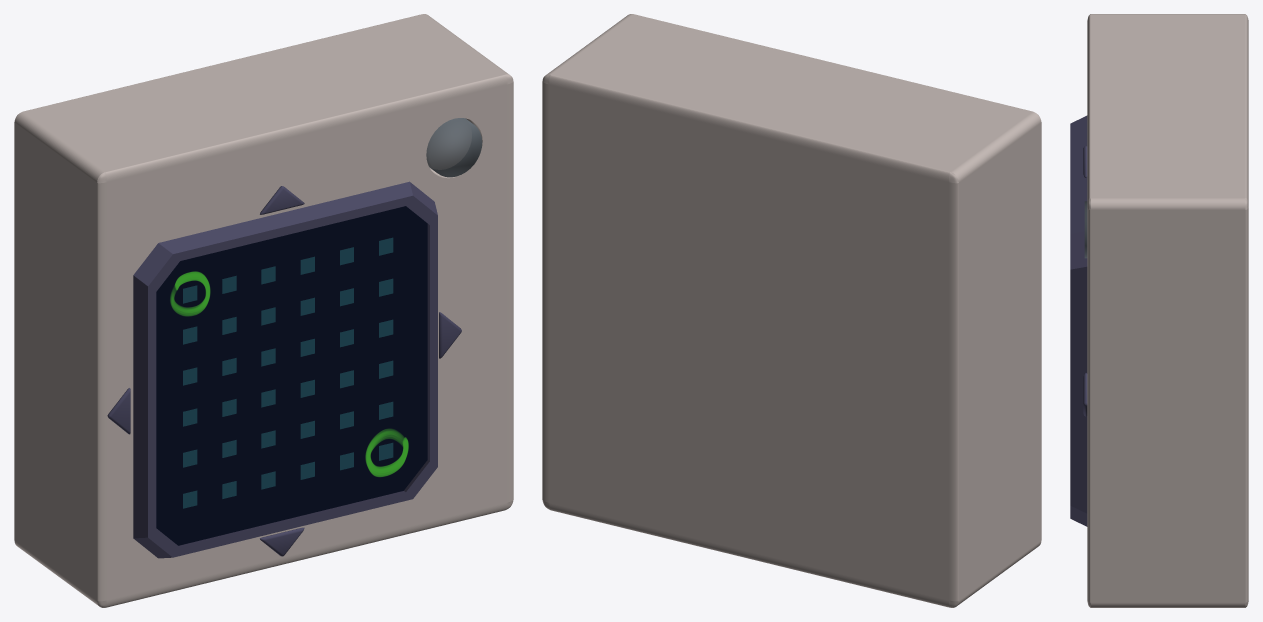
The model's file is maze.glb.
3 views of the same model, side by side, from view 1: azimuth 30°, elevation 25°; view 2: azimuth 150°, elevation 25°; view 3: azimuth 270°, elevation 25° (orthographic). The views are drawn at different scales.
Parts seen in each view (by area): view 1: MazeModule, Maze.Backplate, Maze.Shell, Light.010, Maze.MarkerB, Maze.MarkerA; view 2: MazeModule; view 3: MazeModule, Maze.Shell.
Part boxes in pixels (bbox=[...]): MazeModule: bbox=[14, 14, 513, 607]; Maze.Backplate: bbox=[156, 206, 427, 545]; Maze.Shell: bbox=[133, 181, 437, 558]; Light.010: bbox=[426, 118, 482, 177]; Maze.MarkerB: bbox=[365, 428, 408, 476]; Maze.MarkerA: bbox=[170, 271, 210, 316]; MazeModule: bbox=[542, 14, 1041, 607]; MazeModule: bbox=[1087, 14, 1248, 607]; Maze.Shell: bbox=[1070, 115, 1087, 526].
Bounding box in the file's own units: 0.1761 × 0.1761 × 0.0696.
Materials: 7 (2 with a texture image).
